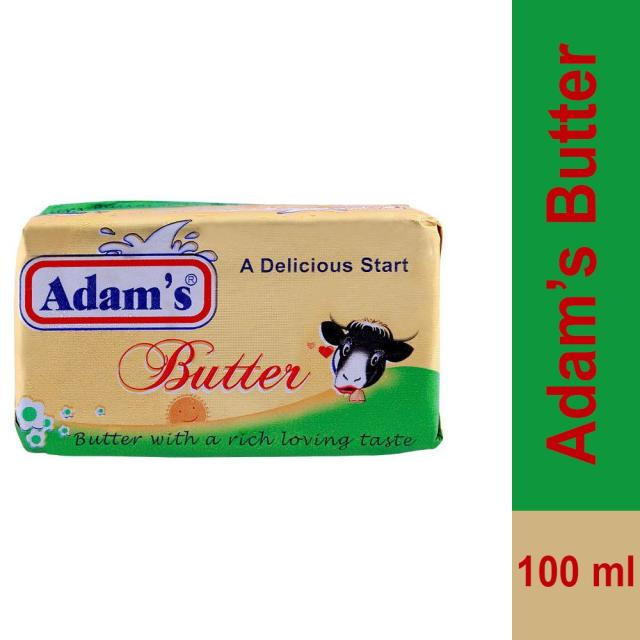butter: (14, 200, 442, 457)
